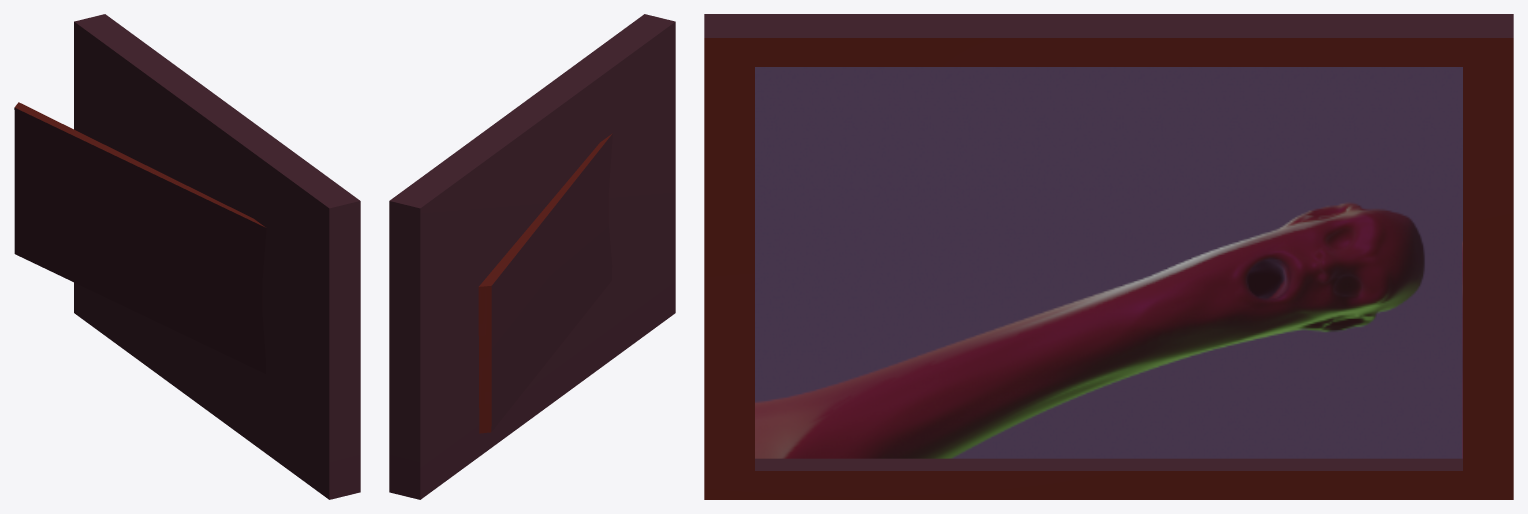
The model's file is noodleneck.fbx.
The picture shows the model from 3 angles, left to right: view 1: azimuth 30°, elevation 25°; view 2: azimuth 150°, elevation 25°; view 3: azimuth 270°, elevation 25°; orthographic projection. The views are drawn at different scales.
Visible parts, largest first — view 1: Cube; view 2: Cube; view 3: Cube.
Boxes of the visible parts, x1,y1,x2,y2 form: Cube: [14, 14, 360, 499]; Cube: [389, 14, 675, 499]; Cube: [704, 14, 1513, 499].
Bounding box in the file's own units: 179 × 818 × 515.
Materials: 1 (1 with a texture image).
